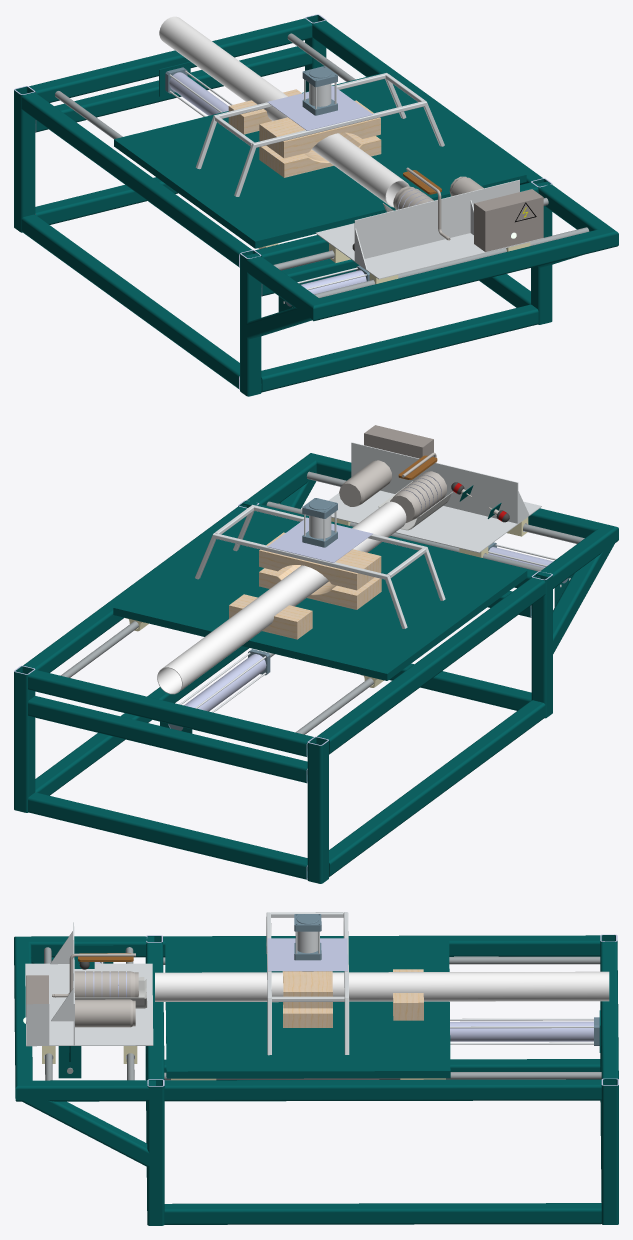
Rendered from rasturb.glb.
3 renders of one model, top to bottom at view 1: azimuth 30°, elevation 25°; view 2: azimuth 150°, elevation 25°; view 3: azimuth 270°, elevation 25°, orthographic.
Parts seen in each view (by area): view 1: green, green-2, polished aluminum-4, White-PW-MT11050, beige soft touch plastic, polished aluminum, chromium plate, polished ash 2d, polished ash 2d-2, color-2, polished steel-2, color-5[2] (+3 smaller); view 2: green, green-2, polished aluminum-4, White-PW-MT11050, polished steel-2, polished ash 2d, polished aluminum, chromium plate, polished ash 2d-2, color-2, color-5[2], beige soft touch plastic (+1 smaller); view 3: green, green-2, White-PW-MT11050, polished aluminum-4, polished steel-2, chromium plate, color-5[2], color-2, polished aluminum, polished ash 2d, polished ash 2d-2, polished aluminum-6[2] (+5 smaller).
Boxes of the visible parts, x1,y1,x2,y2 form: green: (14,15,618,396); green-2: (114,72,526,248); polished aluminum-4: (315,179,543,279); White-PW-MT11050: (159,16,409,207); beige soft touch plastic: (474,189,543,251); polished aluminum: (195,73,444,196); chromium plate: (55,33,589,297); polished ash 2d: (228,89,381,177); polished ash 2d-2: (259,100,380,158); color-2: (267,85,372,130); polished steel-2: (393,167,483,240); color-5[2]: (169,72,228,115); green: (14,453,618,883); green-2: (113,504,527,680); polished aluminum-4: (328,442,541,552); White-PW-MT11050: (157,501,406,694); polished steel-2: (339,452,499,522); polished ash 2d: (229,565,381,639); polished aluminum: (195,504,445,628); chromium plate: (61,471,584,734); polished ash 2d-2: (259,532,381,590); color-2: (267,517,372,562); color-5[2]: (184,654,266,711); beige soft touch plastic: (364,425,433,458); green: (14,935,618,1225); green-2: (165,936,450,1078); White-PW-MT11050: (155,971,609,1001); polished aluminum-4: (25,922,153,1046); polished steel-2: (52,953,138,1027); chromium plate: (44,947,601,1080); color-5[2]: (450,1021,593,1041); color-2: (267,938,347,971); polished aluminum: (266,912,349,1055); polished ash 2d: (282,969,423,1027); polished ash 2d-2: (283,971,332,1008); polished aluminum-6[2]: (450,1018,593,1044).
Size of the model in its own units: 1.59 by 1.12 by 2.66.
Materials: 41 (2 with a texture image).
